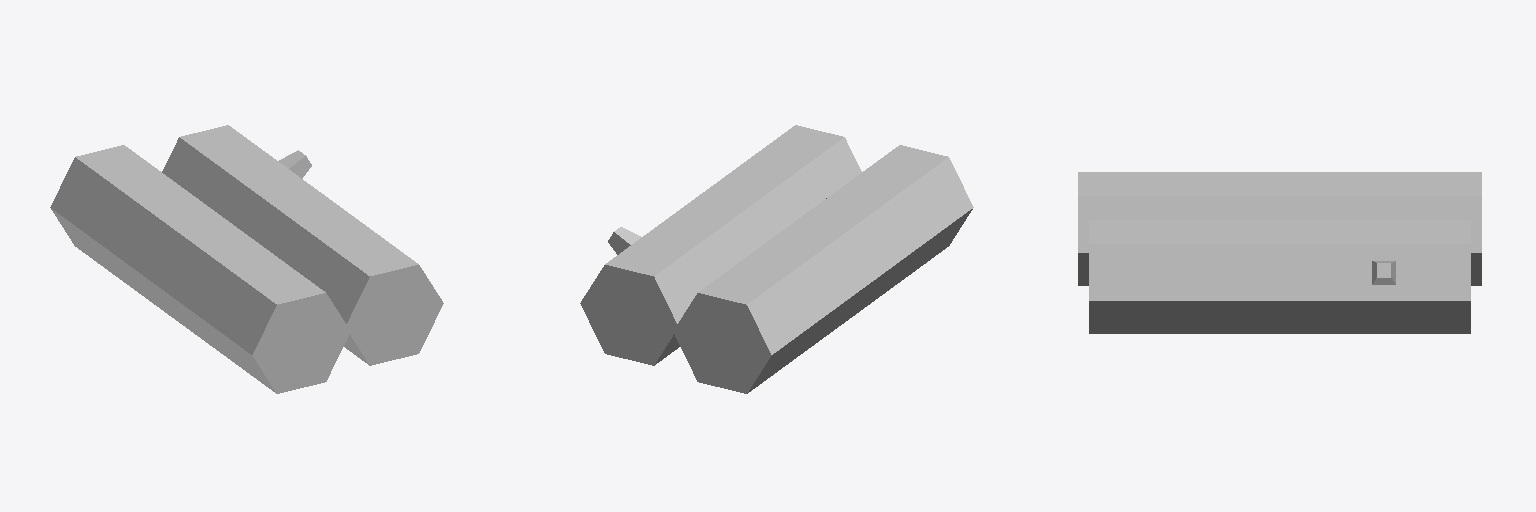
Rendered from log_stack2.obj.
3 views of the same model, side by side, from view 1: azimuth 30°, elevation 25°; view 2: azimuth 150°, elevation 25°; view 3: azimuth 270°, elevation 25° (orthographic).
Visible parts, largest first — view 1: log_stack; view 2: log_stack; view 3: log_stack.
Boxes of the visible parts, box(x1,y1,x2,y2) form: log_stack: box(50, 125, 443, 393); log_stack: box(580, 125, 973, 393); log_stack: box(1078, 172, 1481, 333).
Size of the model in its own units: 0.4247 by 0.1732 by 0.71.